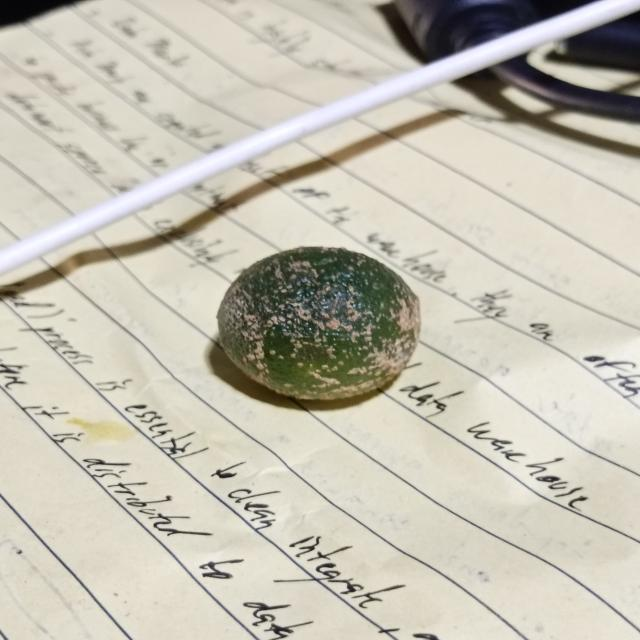scab: (210, 244, 418, 406)
